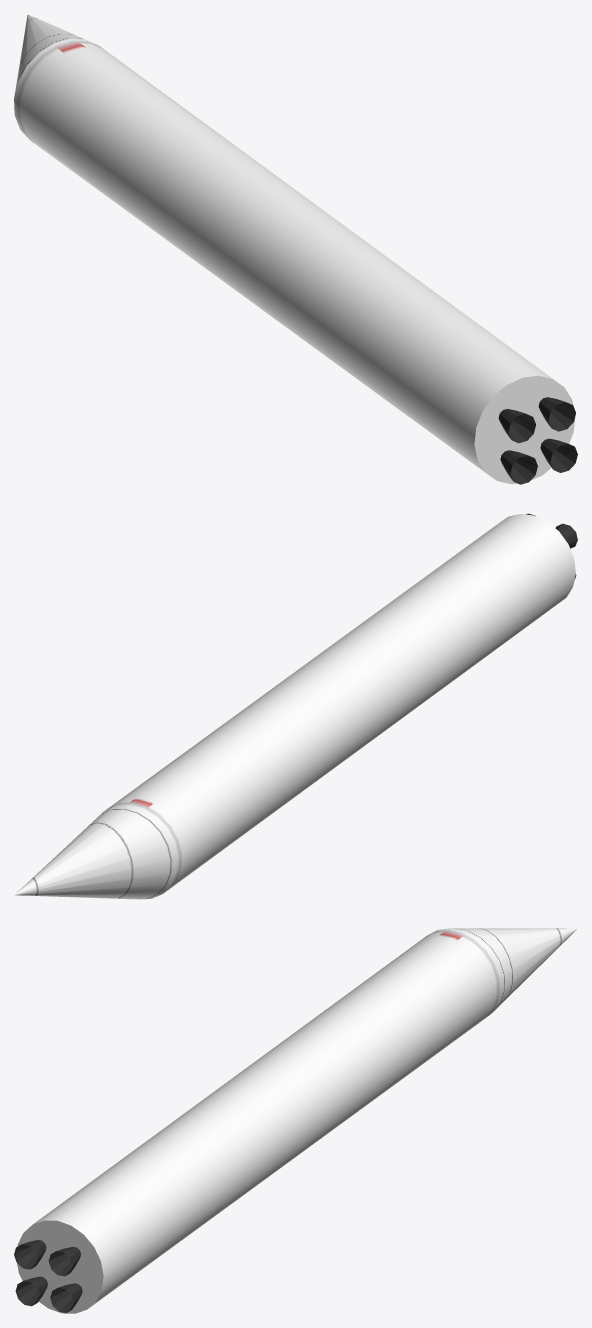
Rendered from boosterm2.obj.
The picture shows the model from 3 angles, top to bottom: view 1: azimuth 30°, elevation 25°; view 2: azimuth 150°, elevation 25°; view 3: azimuth 330°, elevation 25°; orthographic projection. The views are drawn at different scales.
Parts seen in each view (by area): view 1: group1, group0; view 2: group1; view 3: group1, group0.
Part boxes in pixels (x1=…): group1: x1=14, y1=14, x2=575, y2=484; group0: x1=498, y1=397, x2=577, y2=484; group1: x1=14, y1=514, x2=575, y2=899; group1: x1=17, y1=928, x2=577, y2=1313; group0: x1=14, y1=1240, x2=82, y2=1312.
Bounding box in the file's own units: 3.9 × 3.9 × 37.84.
2 materials, 1 textured.
